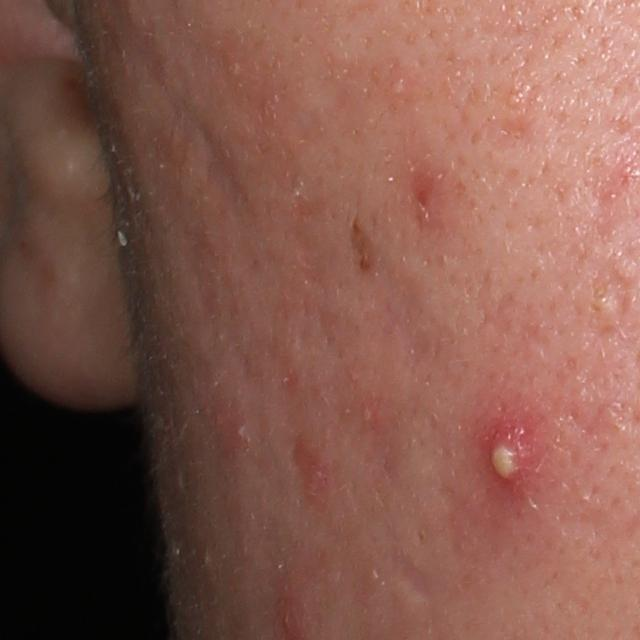atrophic_scar: (166, 96, 255, 213), (591, 255, 632, 331), (390, 544, 435, 605)
comedo: (503, 88, 523, 109), (388, 80, 404, 97)
pustule: (468, 401, 546, 520)
